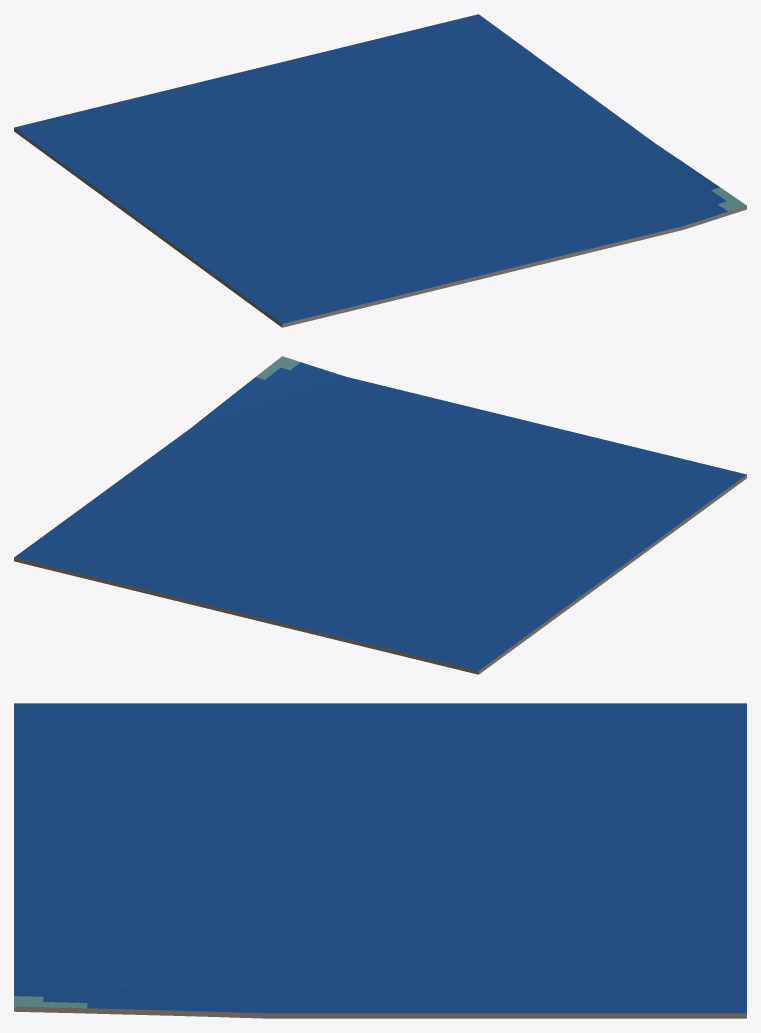
Rendered from parca_-4_-2-uzak.glb.
3 renders of one model, top to bottom at view 1: azimuth 30°, elevation 25°; view 2: azimuth 150°, elevation 25°; view 3: azimuth 270°, elevation 25°, orthographic. The views are drawn at different scales.
Visible parts, largest first — view 1: parca_-4_-2_arazi_uzak; view 2: parca_-4_-2_arazi_uzak; view 3: parca_-4_-2_arazi_uzak.
Boxes of the visible parts, x1,y1,x2,y2 form: parca_-4_-2_arazi_uzak: (14,14,746,327); parca_-4_-2_arazi_uzak: (14,356,746,674); parca_-4_-2_arazi_uzak: (14,703,746,1018).
Bounding box in the file's own units: 1000 × 18.21 × 1000.
